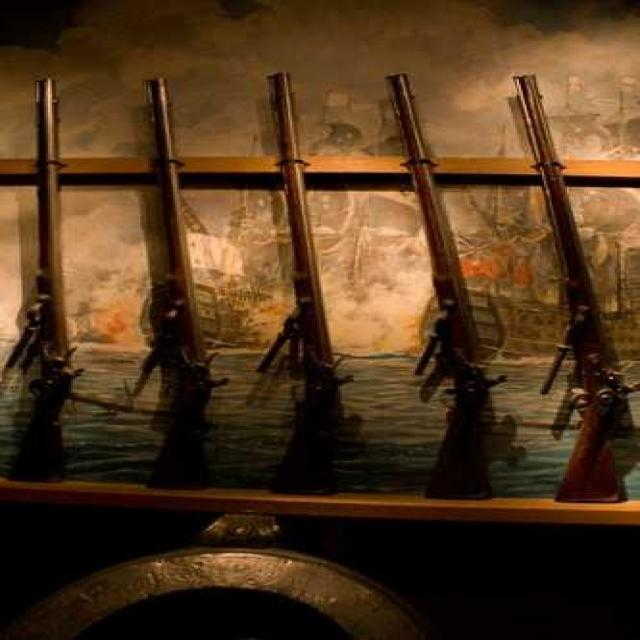weapon: (96, 60, 250, 501), (230, 52, 348, 586), (515, 56, 640, 552), (0, 32, 104, 521), (382, 58, 478, 580)
